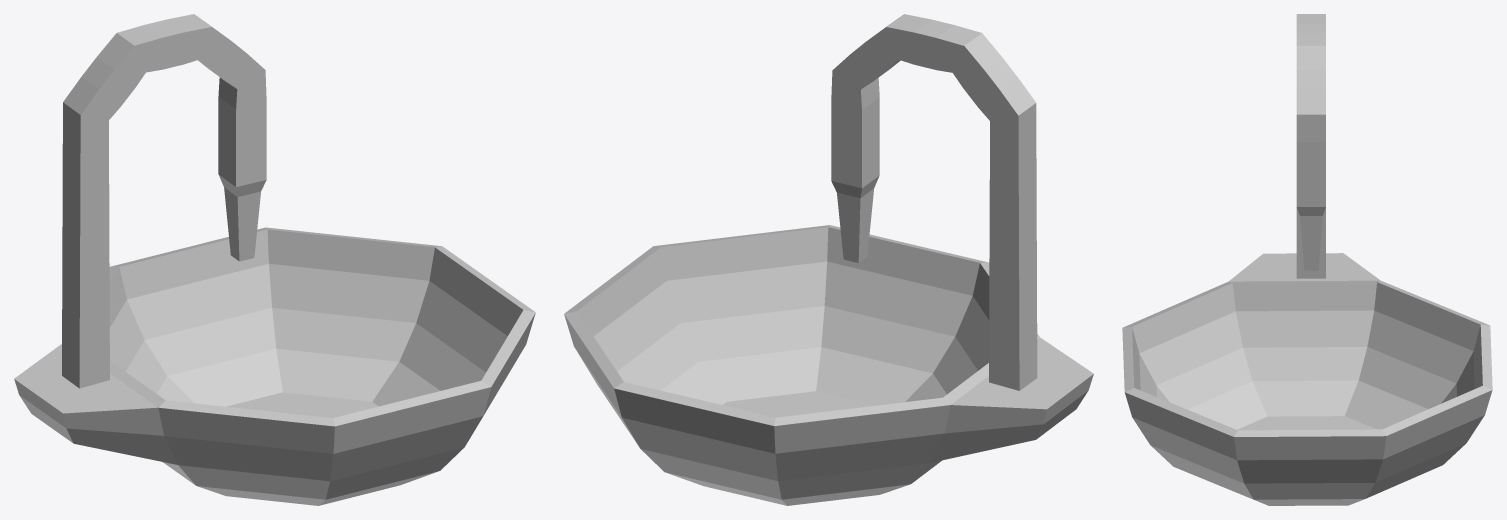
The model's file is Wastafel.fbx.
3 views of the same model, side by side, from view 1: azimuth 30°, elevation 25°; view 2: azimuth 150°, elevation 25°; view 3: azimuth 270°, elevation 25° (orthographic). The views are drawn at different scales.
Visible parts, largest first — view 1: Cube.044; view 2: Cube.044; view 3: Cube.044.
Boxes of the visible parts, left/top/right/bottom form: Cube.044: left=14, top=14, right=535, bottom=505; Cube.044: left=564, top=14, right=1093, bottom=505; Cube.044: left=1122, top=14, right=1492, bottom=505.
Size of the model in its own units: 107 by 102 by 89.64.
Materials: 1 (1 with a texture image).
